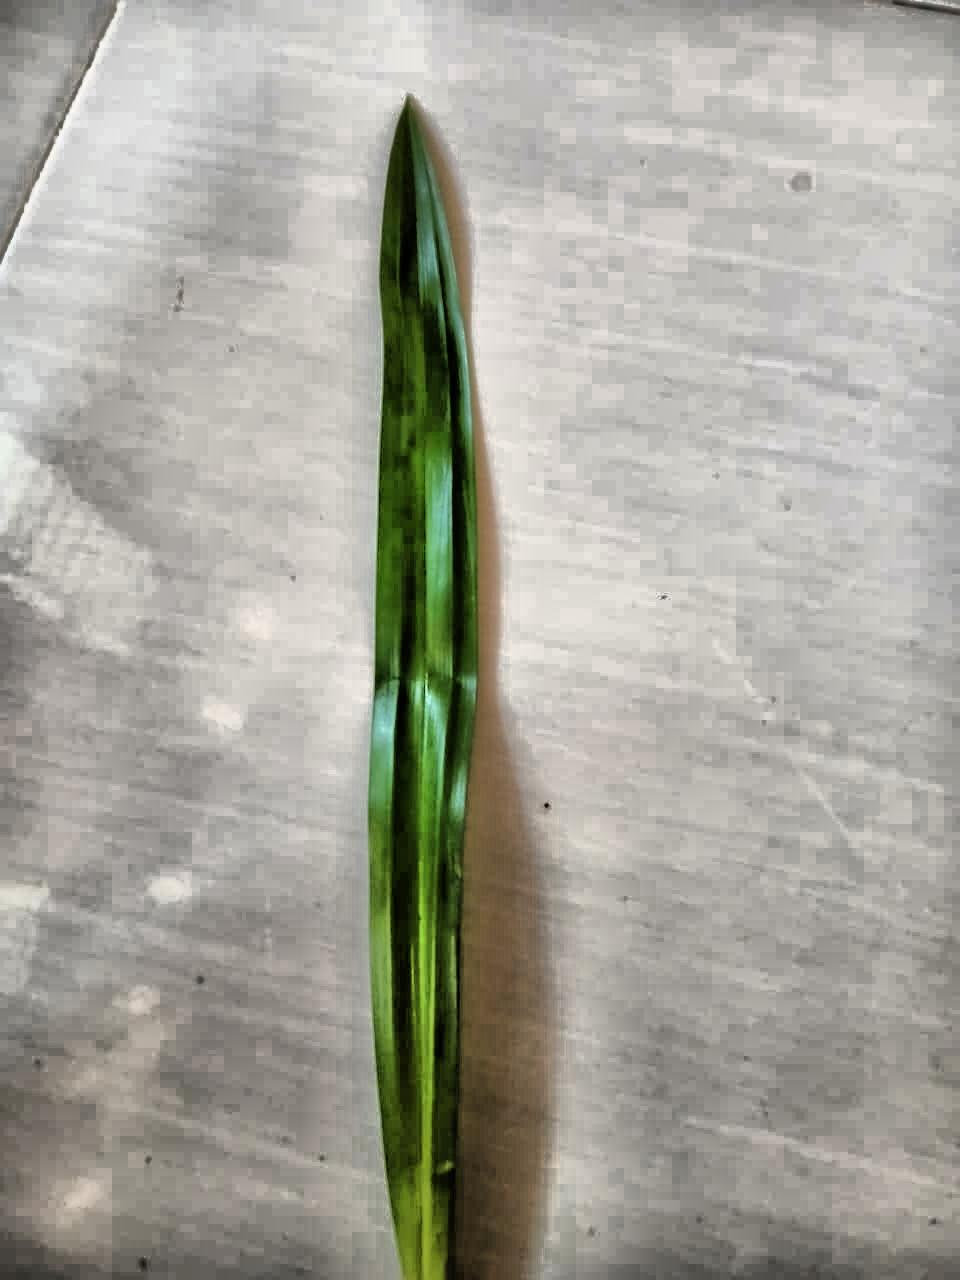daun pandan: (367, 98, 478, 1279)
